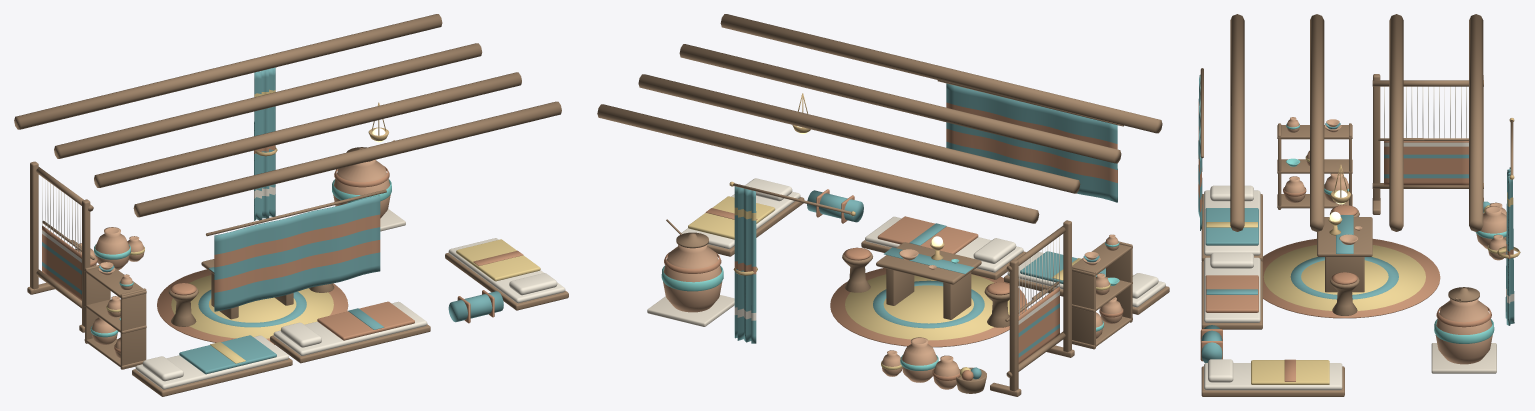
Rendered from home.glb.
The picture shows the model from 3 angles, left to right: view 1: azimuth 30°, elevation 25°; view 2: azimuth 150°, elevation 25°; view 3: azimuth 270°, elevation 25°; orthographic projection. The views are drawn at different scales.
Parts seen in each view (by area): view 1: Home; view 2: Home; view 3: Home.
Boxes of the visible parts, bbox=[...] form: Home: bbox=[14, 14, 568, 396]; Home: bbox=[597, 14, 1169, 396]; Home: bbox=[1198, 14, 1520, 396].
Size of the model in its own units: 6.1 by 2.53 by 4.05.
